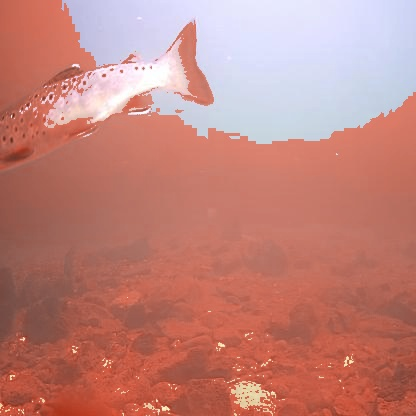salmon: (0, 13, 216, 176)
